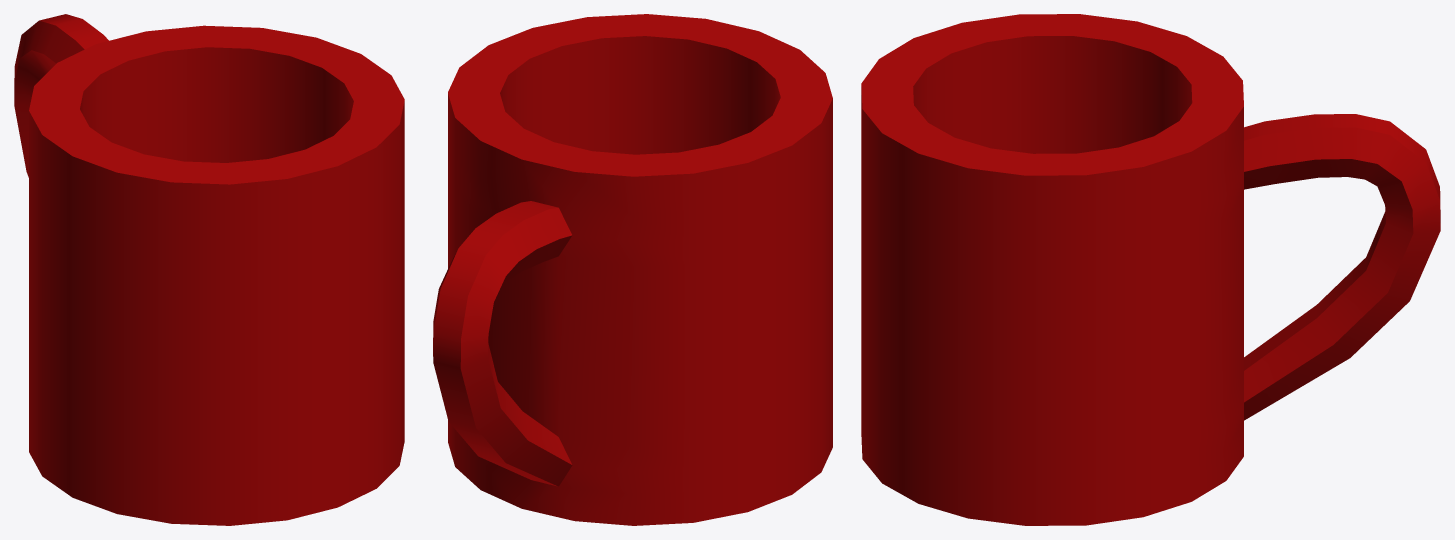
File: cup_model.fbx
3 renders of one model, left to right at view 1: azimuth 30°, elevation 25°; view 2: azimuth 150°, elevation 25°; view 3: azimuth 270°, elevation 25°, orthographic. The views are drawn at different scales.
Parts seen in each view (by area): view 1: cup_geo; view 2: cup_geo; view 3: cup_geo.
Boxes of the visible parts, bbox=[...] form: cup_geo: bbox=[14, 14, 404, 525]; cup_geo: bbox=[433, 14, 832, 525]; cup_geo: bbox=[861, 14, 1440, 525].
Bounding box in the file's own units: 0.5674 × 0.573 × 0.8588.
